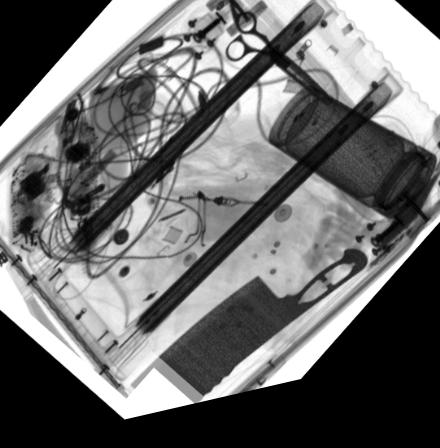Knife: (129, 266, 368, 419)
Powerbank: (359, 190, 440, 296)
Scissors: (221, 0, 333, 124)
